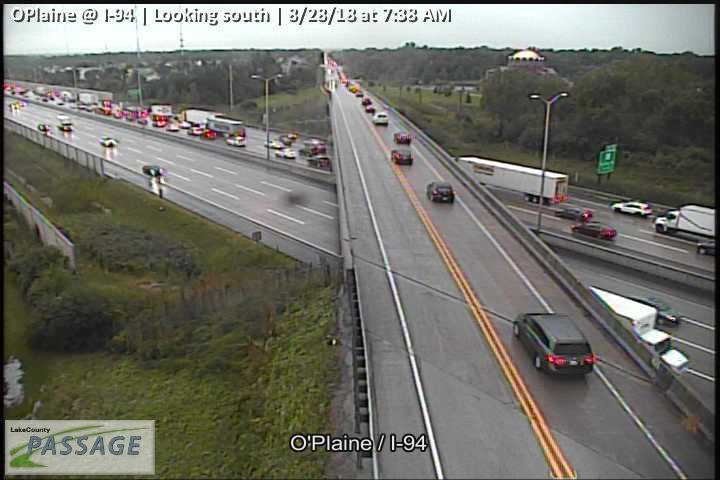Bus: (56, 115, 72, 131)
SUV: (515, 312, 594, 378), (428, 181, 454, 203), (391, 149, 413, 164), (372, 113, 388, 126), (227, 136, 245, 146)
Sedan: (143, 165, 163, 176), (100, 136, 118, 147), (395, 130, 410, 143), (366, 105, 375, 114), (362, 96, 370, 103)
Truck: (206, 114, 245, 136), (180, 108, 216, 126), (149, 103, 172, 116)
